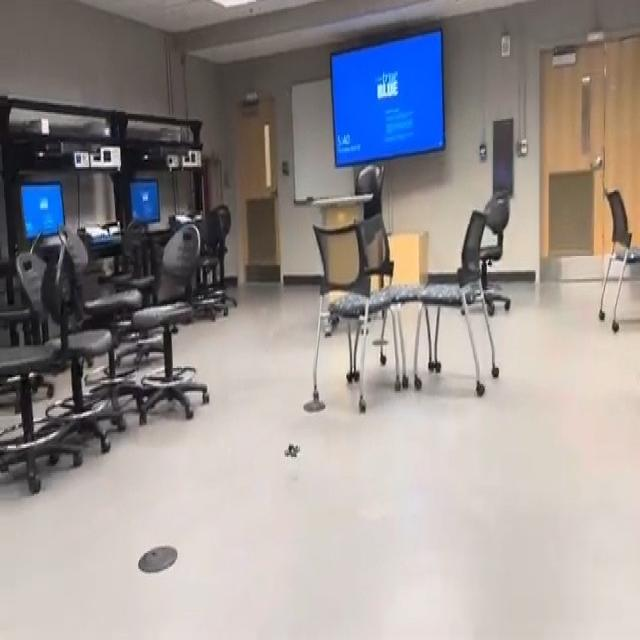drone: (278, 428, 307, 477)
